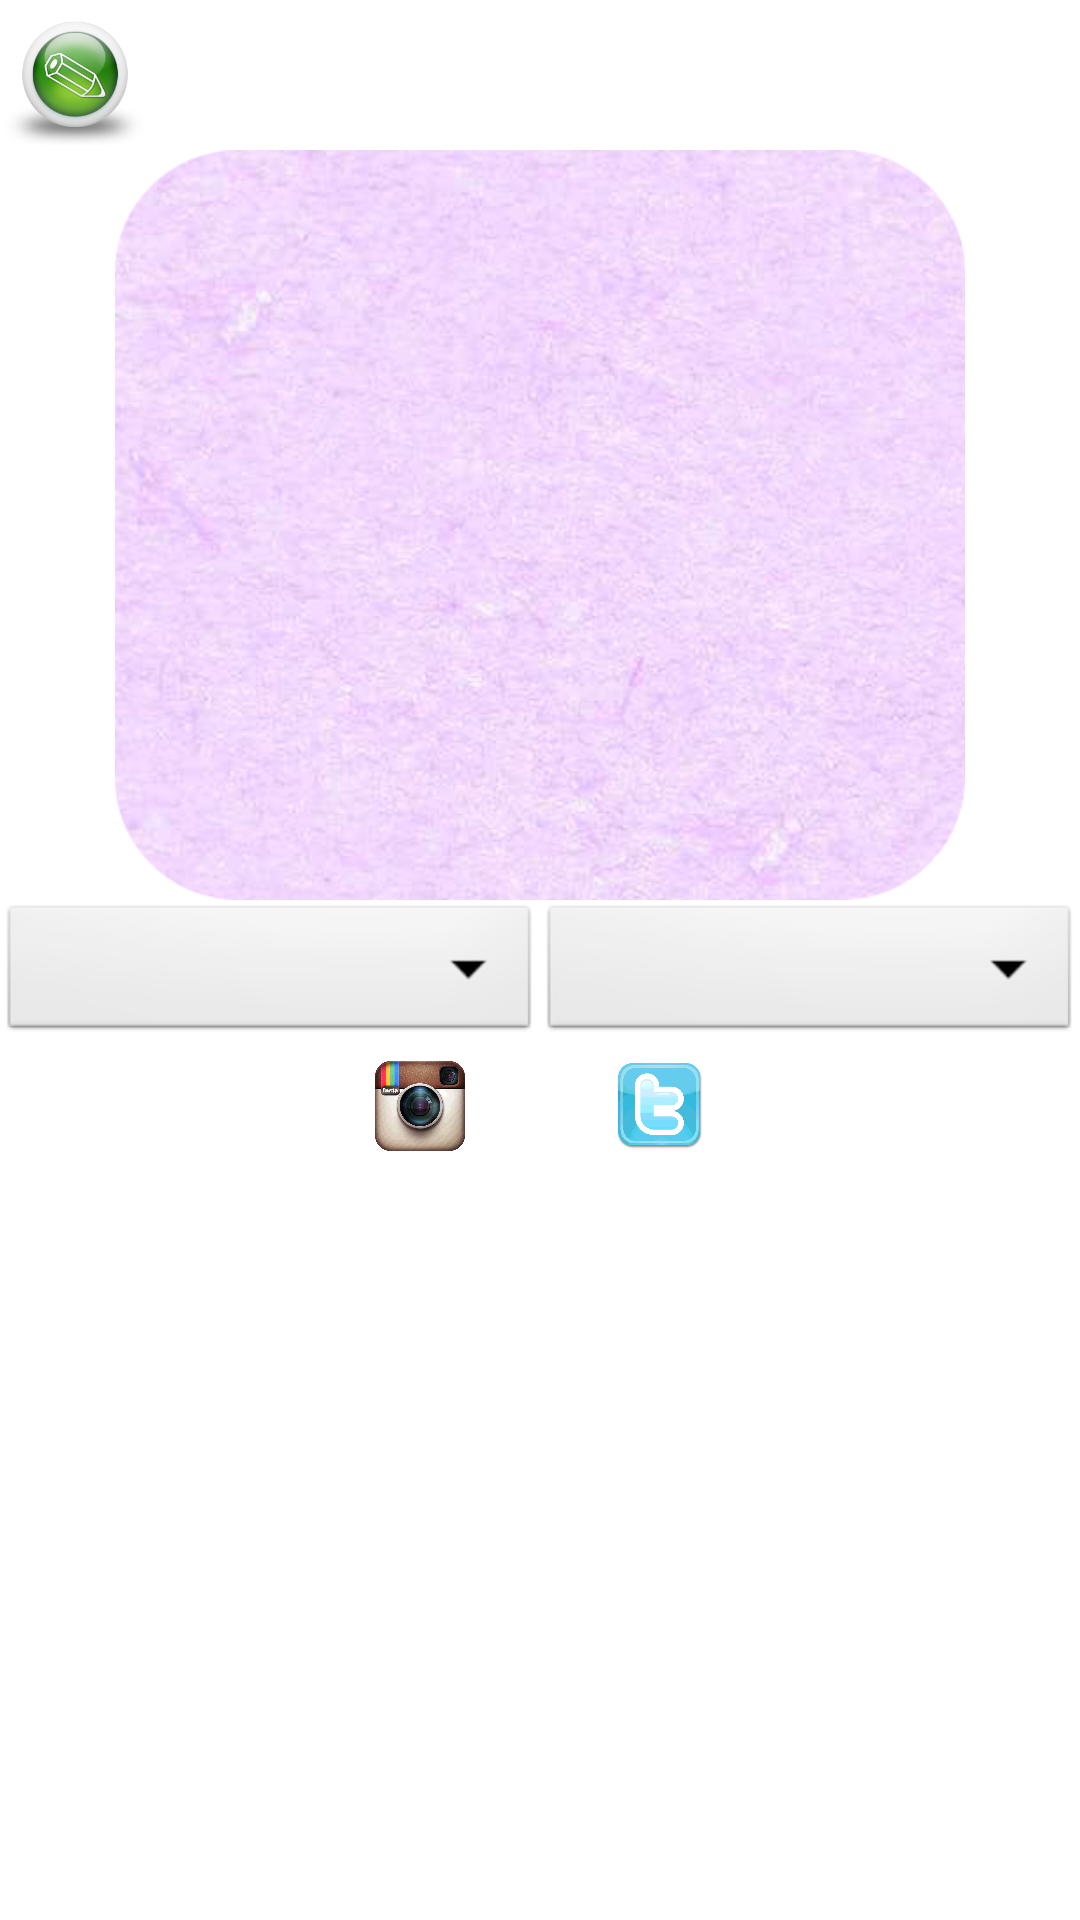

Where to tap for icons on this 1080w x 1920h app screen, as [x,y]:
edit: [74,80]
